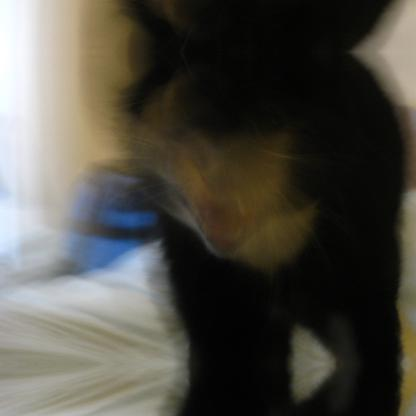Cat: (89, 53, 408, 362)
